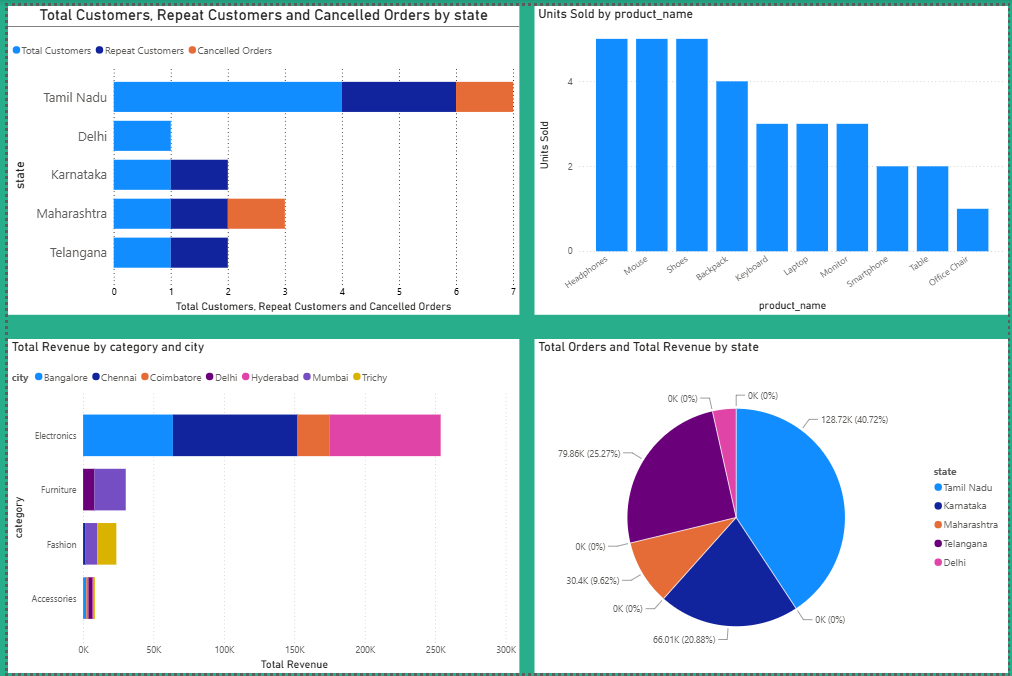

The dashboard page shown, as its layout file describes it:
{"tool":"powerbi","page":{"name":"Page 2","canvas":[1350,900],"ordinal":1},"visuals":[{"type":"barChart","fields":{"Category":["ecommerce_analysis customers.state"],"Y":["DateTable.Total Customers","DateTable.Repeat Customers","DateTable.Cancelled Orders"]},"box":[0,0,690.2,417],"z":0},{"type":"barChart","fields":{"Category":["ecommerce_analysis products.category"],"Y":["ecommerce_analysis order_items.Total Revenue"],"Series":["ecommerce_analysis customers.city"]},"box":[0,449.3,690.2,451.4],"z":1},{"type":"columnChart","fields":{"Y":["DateTable.Units Sold"],"Category":["ecommerce_analysis products.product_name"]},"box":[710.4,0,639.6,417],"z":2},{"type":"pieChart","fields":{"Y":["DateTable.Total Orders","ecommerce_analysis order_items.Total Revenue"],"Category":["ecommerce_analysis customers.state"]},"box":[710.4,449.3,639.6,451.4],"z":3}]}

Visuals, with their boxes in screenshot pixels (x1, y1, x2, y2), scaled from the page's 1350x900 canvas onto the 1012x676 screenshot:
barChart - ecommerce_analysis customers.state x DateTable.Total Customers: left=0, top=0, right=517, bottom=313
barChart - ecommerce_analysis products.category x ecommerce_analysis order_items.Total Revenue: left=0, top=337, right=517, bottom=675
columnChart - DateTable.Units Sold x ecommerce_analysis products.product_name: left=533, top=0, right=1011, bottom=313
pieChart - DateTable.Total Orders x ecommerce_analysis order_items.Total Revenue: left=533, top=337, right=1011, bottom=675
